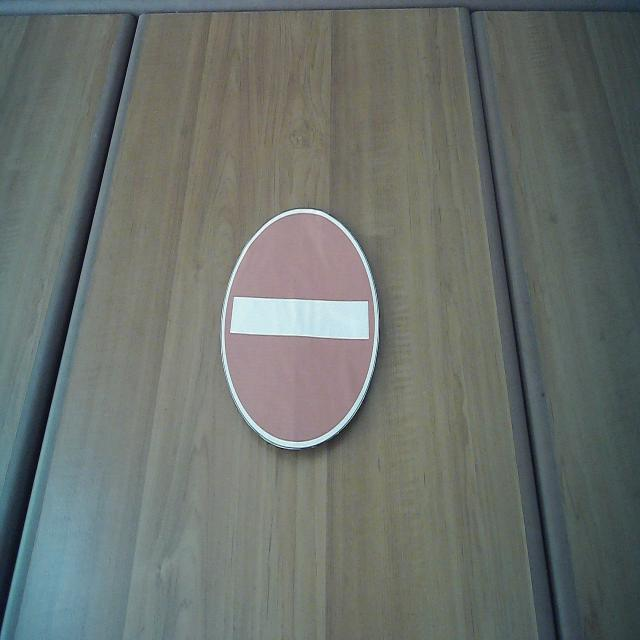no_entry: (220, 206, 382, 452)
